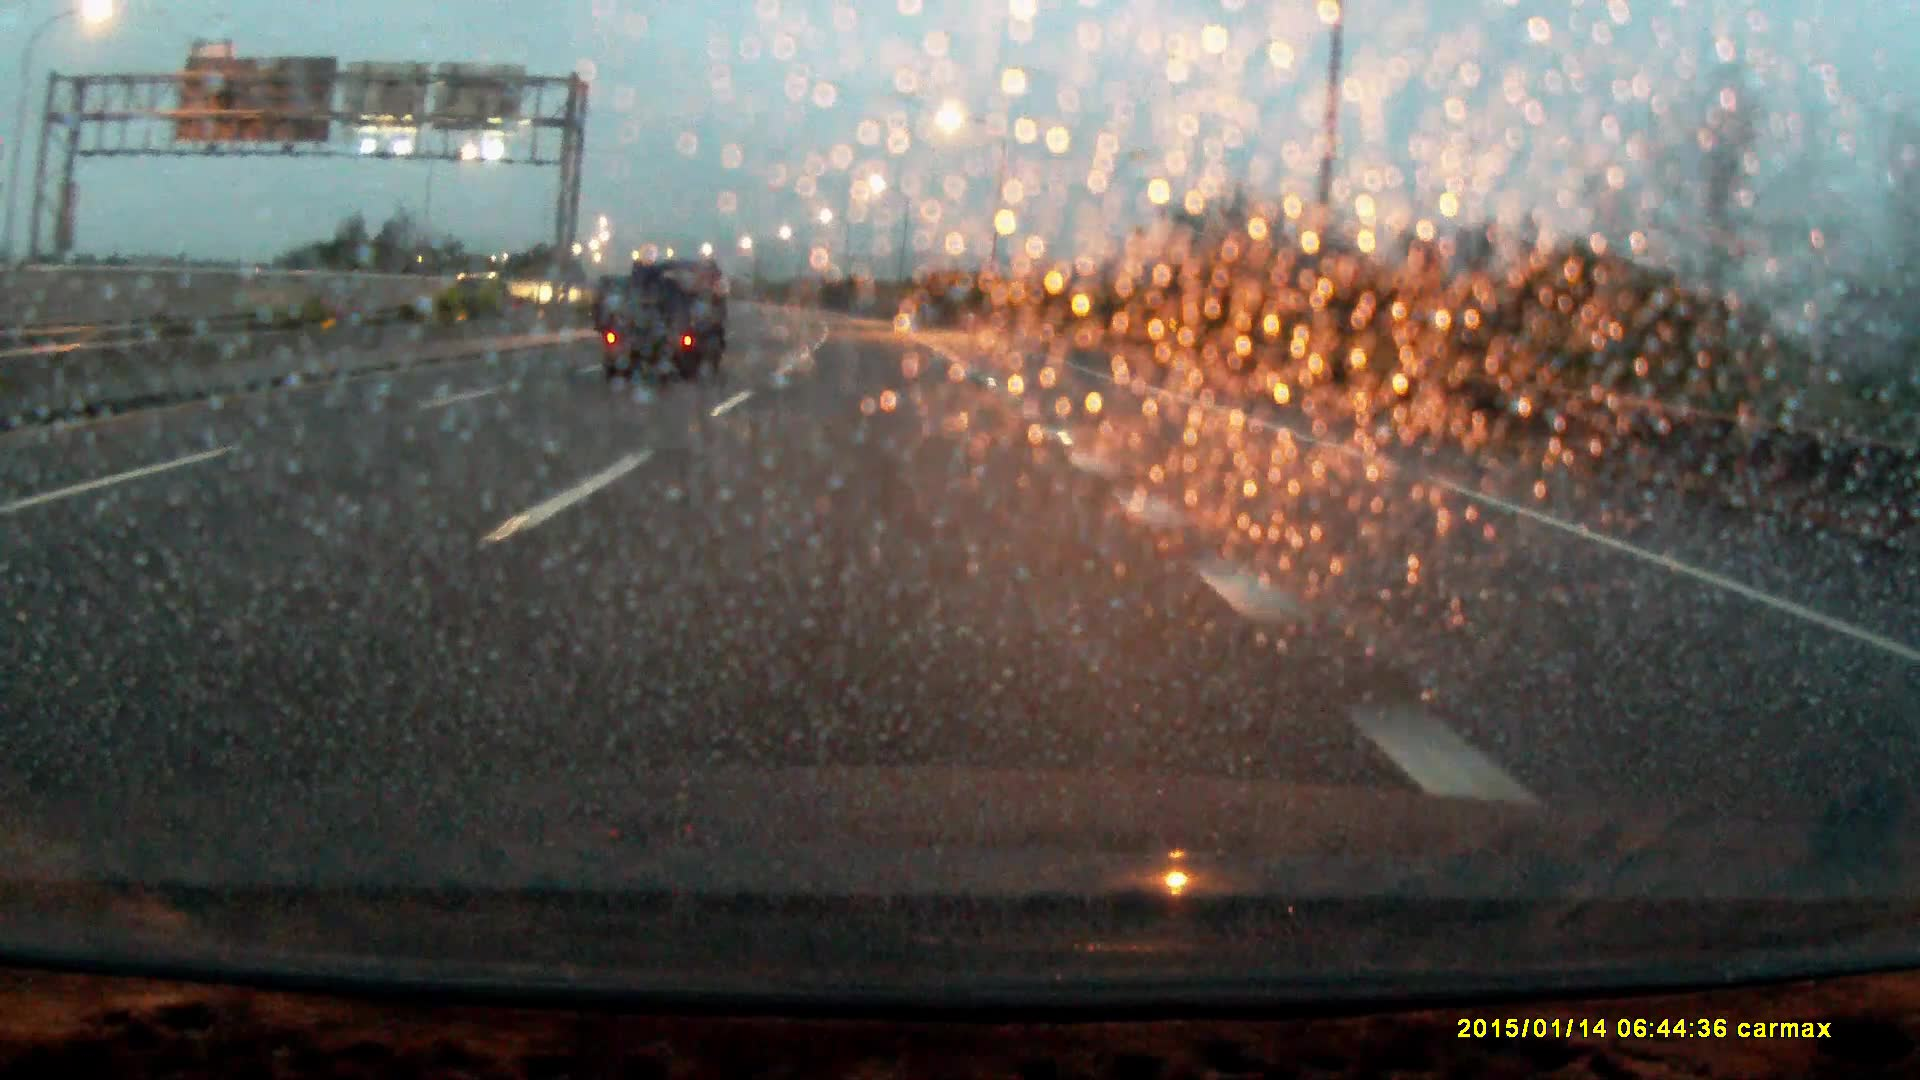vehicle: (600, 255, 733, 378), (455, 269, 549, 310)
